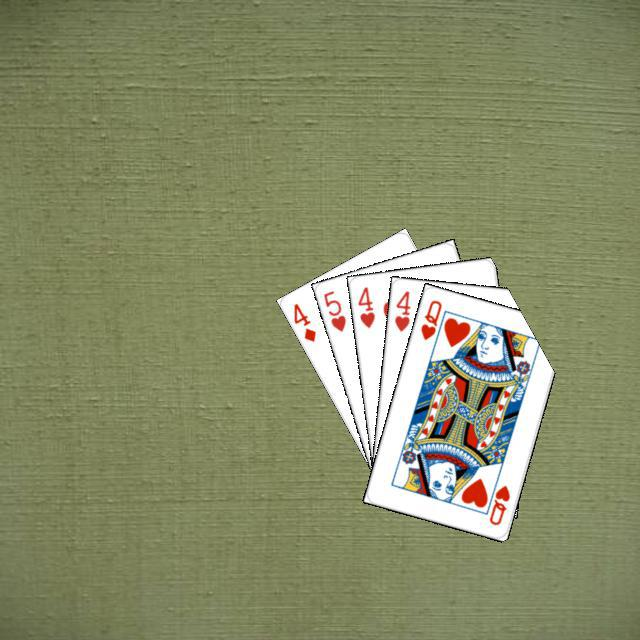4d: (288, 298, 318, 344)
4h: (353, 282, 377, 330), (389, 286, 412, 333)
5h: (318, 286, 348, 333)
Qh: (481, 473, 512, 527), (416, 295, 443, 342)
